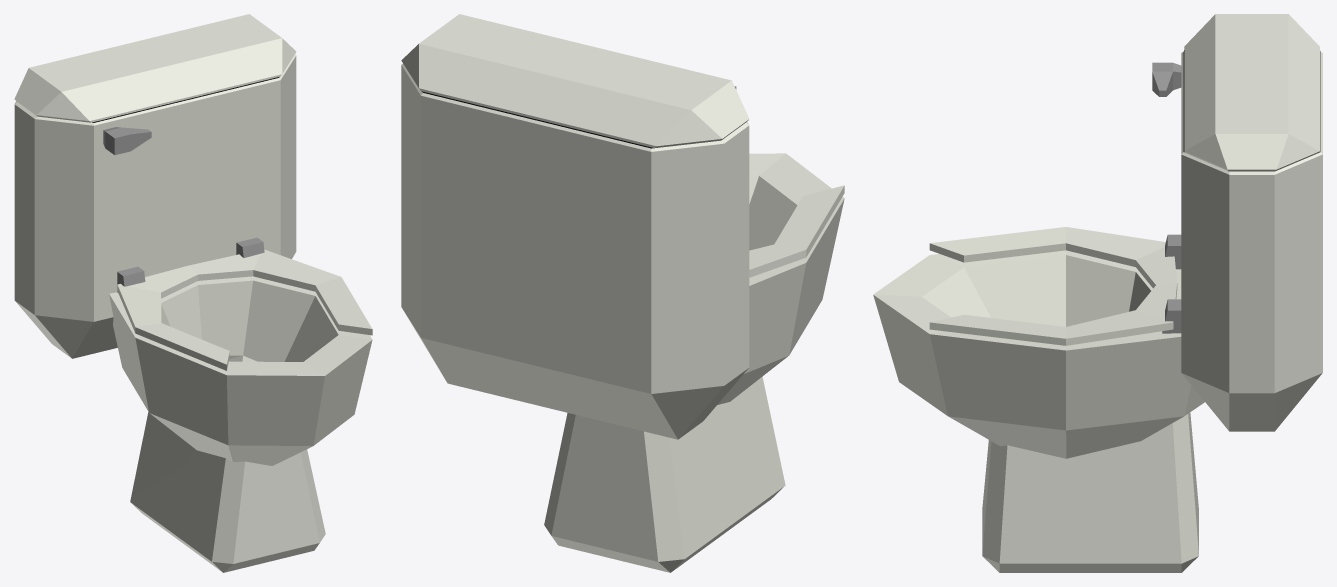
File: toilet.glb
The picture shows the model from 3 angles, left to right: view 1: azimuth 30°, elevation 25°; view 2: azimuth 150°, elevation 25°; view 3: azimuth 270°, elevation 25°; orthographic projection. The views are drawn at different scales.
Parts seen in each view (by area): view 1: Toilet_0; view 2: Toilet_0; view 3: Toilet_0.
Part boxes in pixels (left/top/right/bottom): Toilet_0: left=14, top=14, right=372, bottom=572; Toilet_0: left=401, top=14, right=844, bottom=572; Toilet_0: left=873, top=14, right=1322, bottom=572.
Bounding box in the file's own units: 4.27 × 6.64 × 5.71.
1 material, 1 textured.
